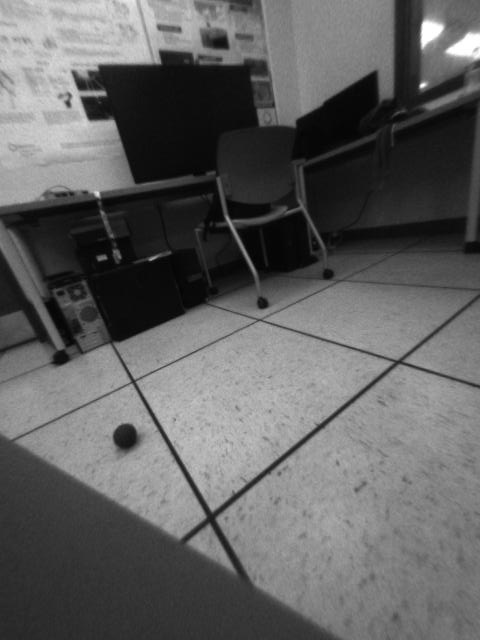dogtoy: (109, 417, 146, 456)
